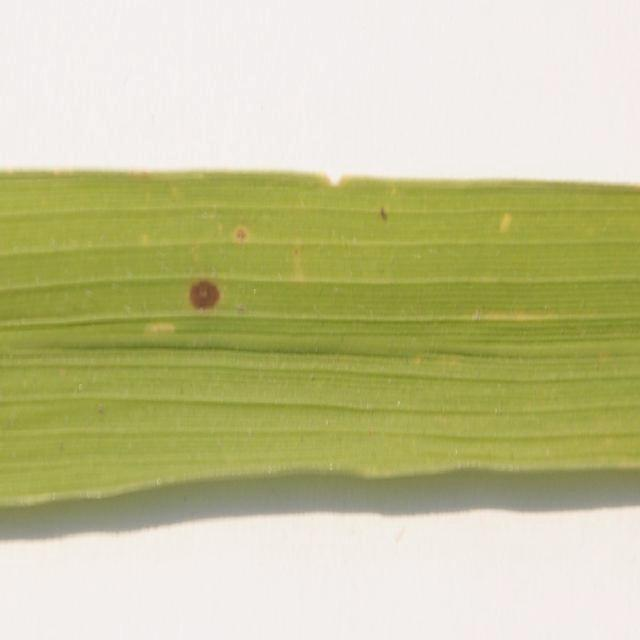Brownspot: (190, 280, 219, 309), (145, 322, 174, 333), (499, 212, 511, 232), (234, 226, 247, 242), (380, 207, 387, 220)
